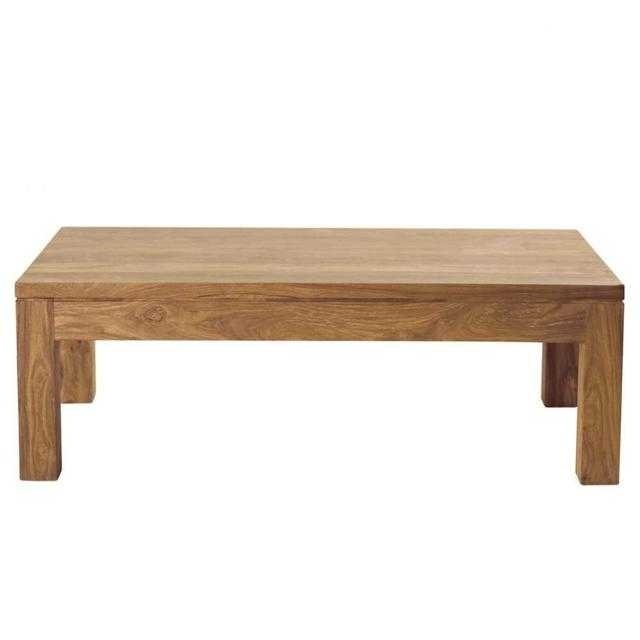obstacle: (16, 227, 623, 484)
